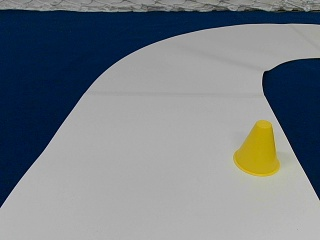cone: (233, 121, 280, 175)
